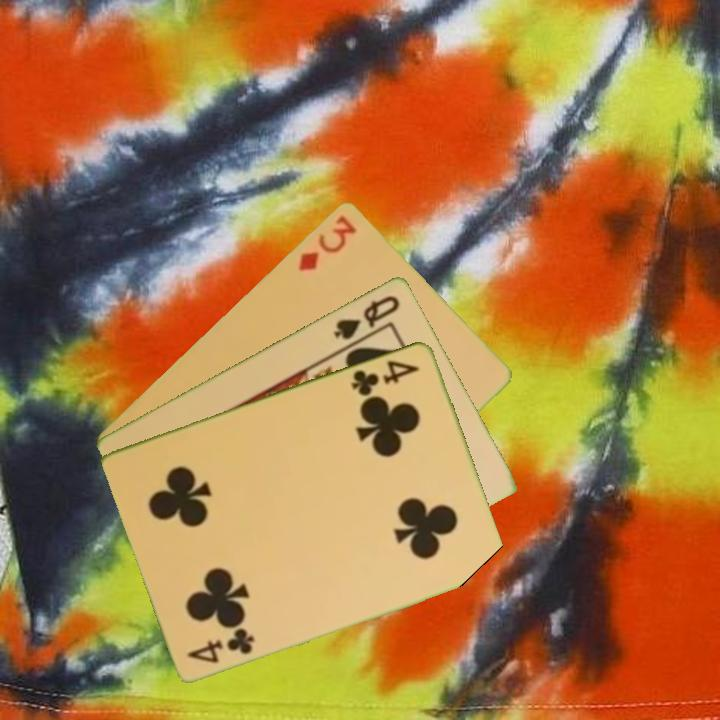3d: (294, 211, 359, 274)
4c: (348, 356, 422, 399), (184, 624, 258, 666)
Qs: (330, 291, 403, 342)
